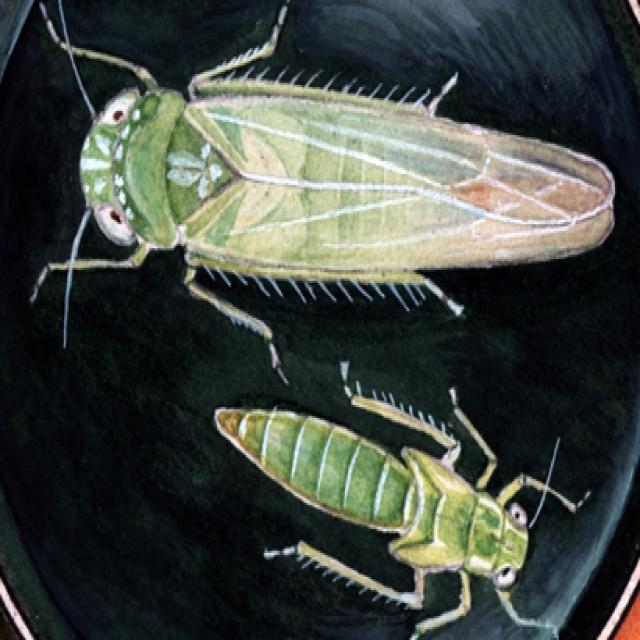Yechan: (67, 49, 623, 308)
